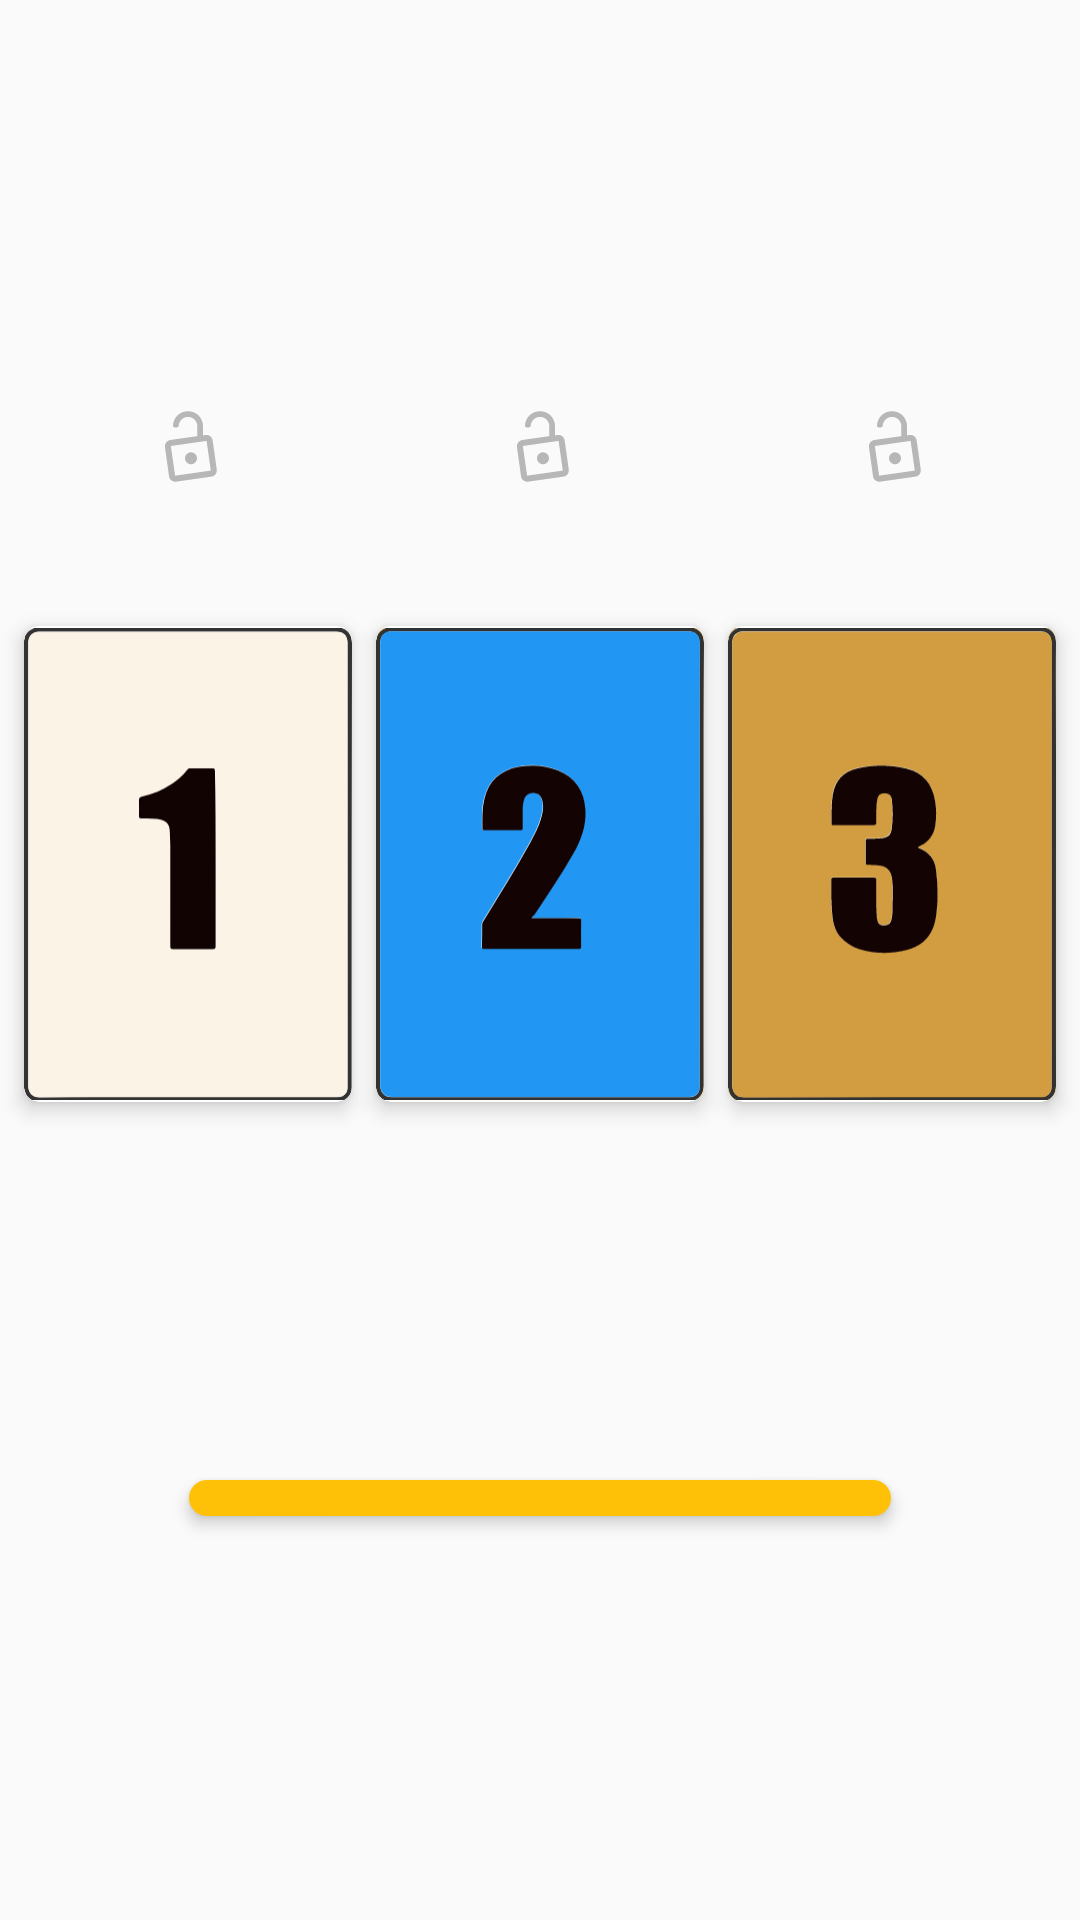

Locate icon controls on the screen. Image size 1080*1920, boxes as (x1, y1, x2, y2).
lock whith angle: (165, 411, 217, 482), (517, 411, 569, 482), (869, 411, 921, 482)
